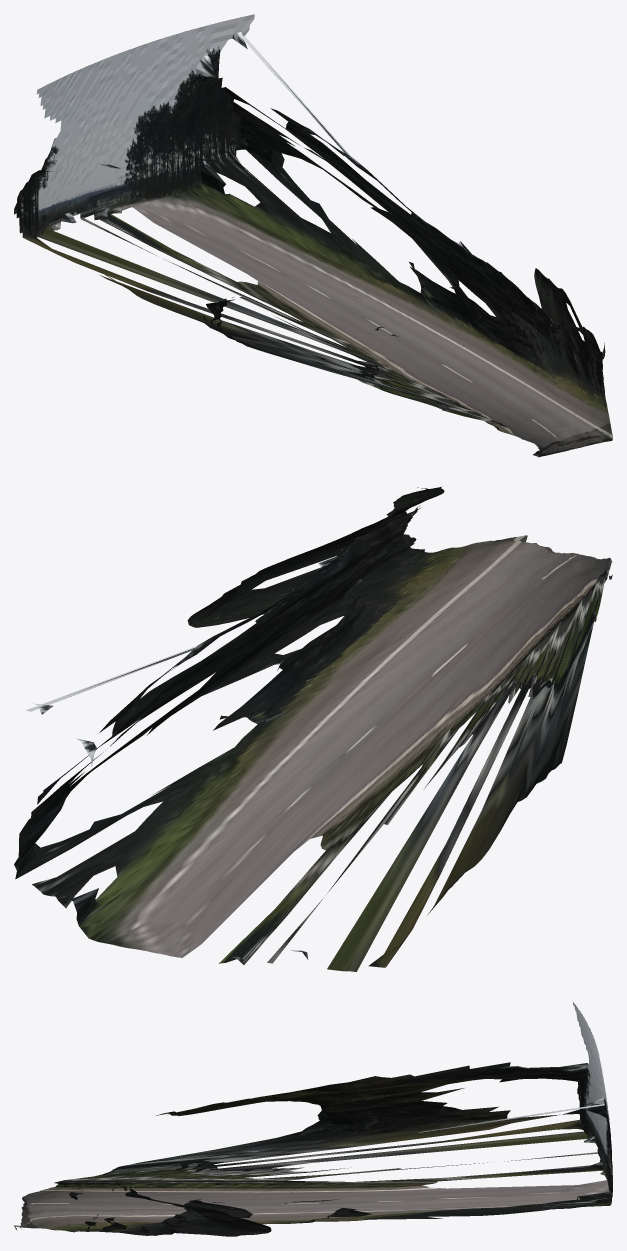
The picture shows the model from 3 angles, top to bottom: view 1: azimuth 30°, elevation 25°; view 2: azimuth 150°, elevation 25°; view 3: azimuth 270°, elevation 25°; orthographic projection. The views are drawn at different scales.
Visible parts, largest first — view 1: defaultobject; view 2: defaultobject; view 3: defaultobject.
Part boxes in pixels (x1=…): defaultobject: x1=14, y1=14, x2=612, y2=457; defaultobject: x1=14, y1=487, x2=612, y2=971; defaultobject: x1=14, y1=1002, x2=612, y2=1236.
Bounding box in the file's own units: 23.98 × 11.72 × 44.73.
Materials: 1 (1 with a texture image).
